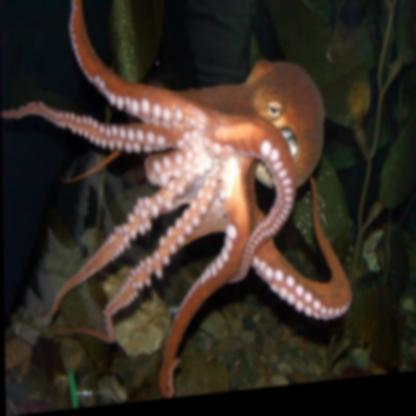Squid: (6, 0, 353, 415)
